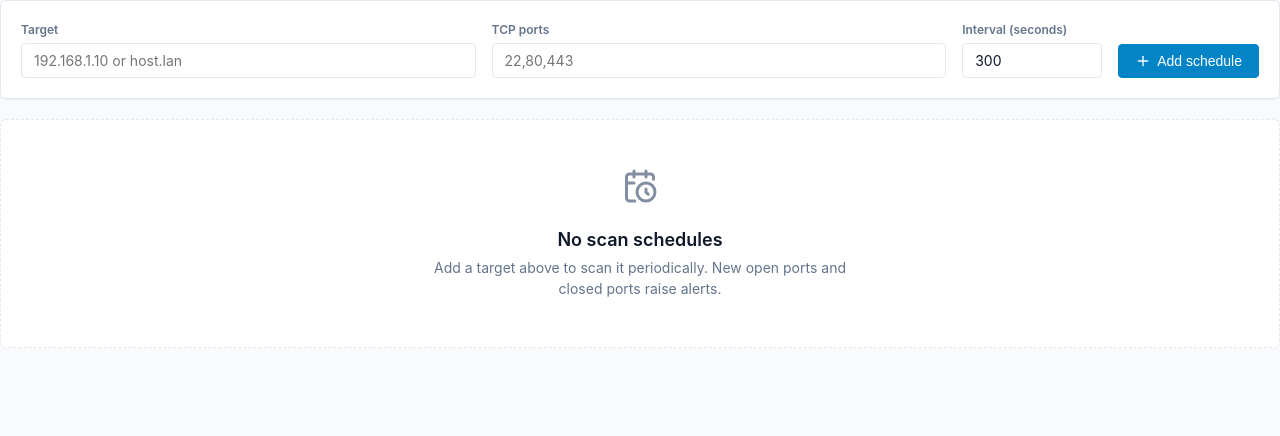
Schedules Page › surfaces API errors such as a duplicate schedule
expect the heading "No scan schedules" is shown: met, box [557,226,722,253]
Type "10.0.0.1" into the field labelled "Target" at (248, 60), box [21,43,476,78]
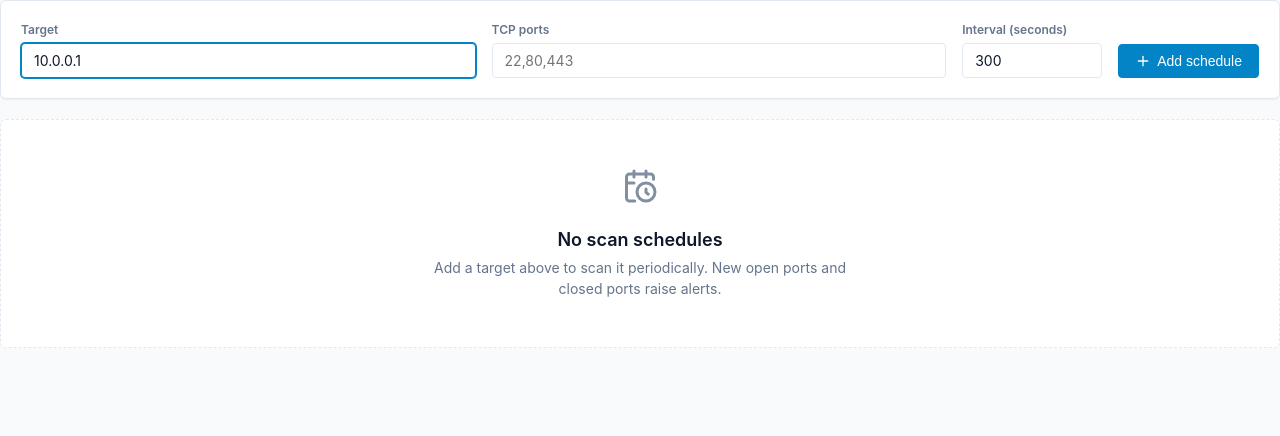
Type "22" into the field labelled "TCP ports" at (719, 60), box [492,43,946,78]
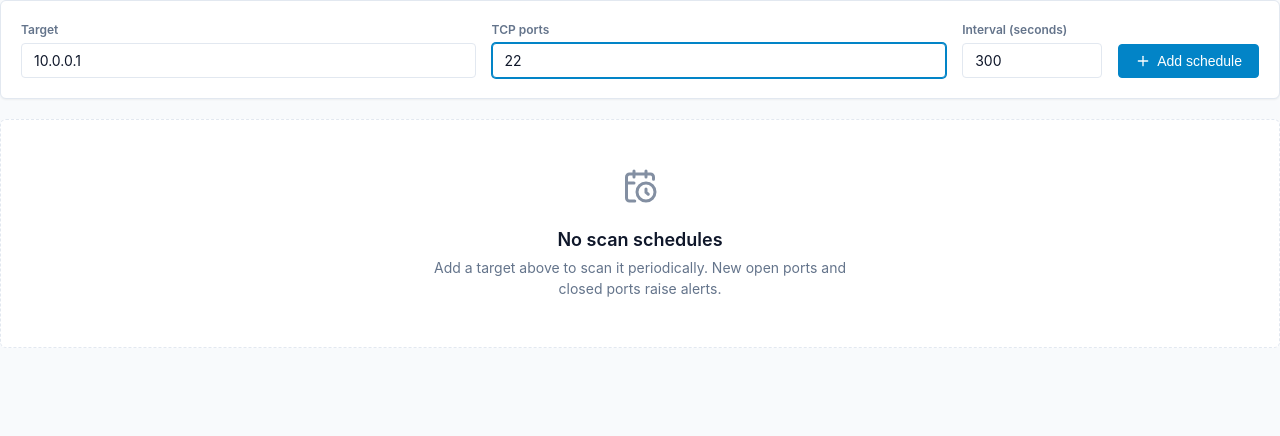
Click the button "Add schedule" at (1189, 61), box [1118,44,1259,78]
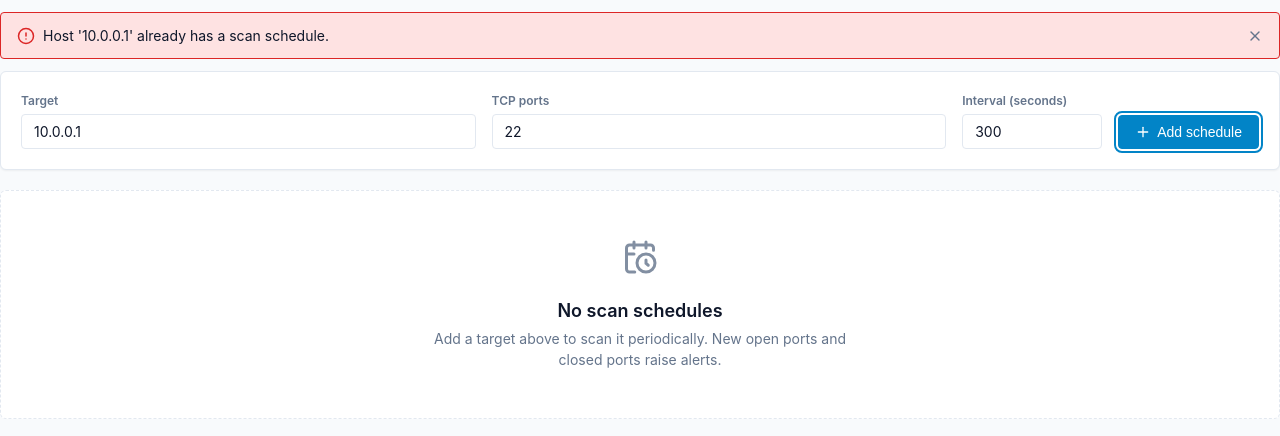
expect the text "Host '10.0.0.1' already has a scan schedule." is shown: met, box [43,25,329,46]
